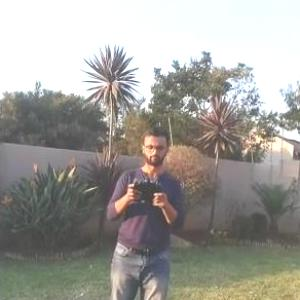follow: (98, 121, 193, 299)
